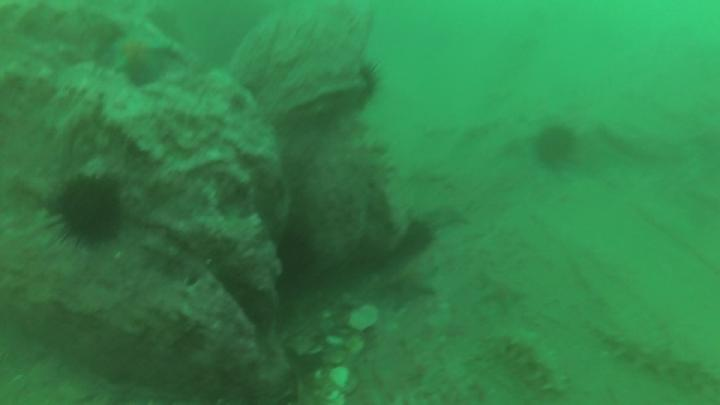echinus: (54, 179, 121, 243), (538, 128, 573, 165), (282, 240, 316, 275), (401, 224, 433, 256)
holothurian: (593, 323, 720, 396), (485, 326, 567, 392)
scallop: (348, 304, 381, 332)
starfish: (113, 28, 170, 71)
